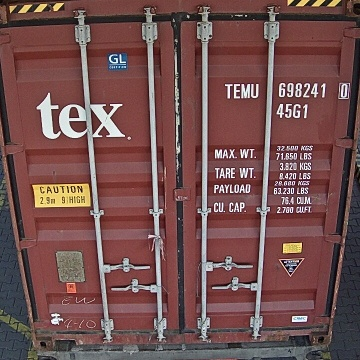serial_id: (225, 82, 349, 98)
